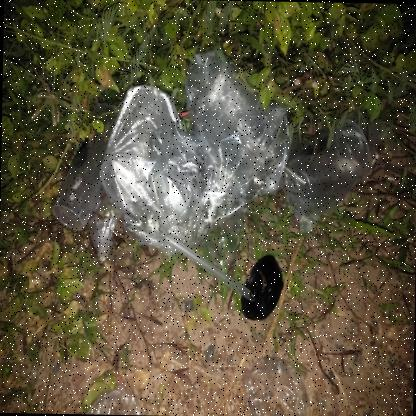Disposable plastic cup: (52, 102, 119, 230)
Other plastic bottle: (246, 355, 307, 416), (83, 384, 144, 413)
Plastic film: (88, 50, 387, 269)
Plastic lid: (241, 254, 282, 320)
Plastic straw: (165, 234, 255, 303), (235, 126, 305, 185), (179, 110, 189, 117)
